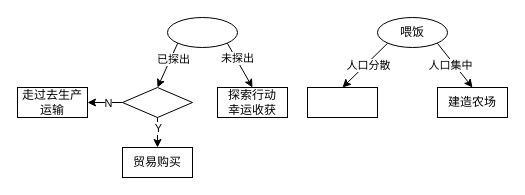
Image size: 525x195. Some labels were removed from this diagram. The box of each missing label's shape, as (x1, y1, x2, y2) in pixels:
打猎: (306, 86, 378, 118)
获取资源: (166, 16, 238, 48)
远吗: (122, 86, 192, 118)
